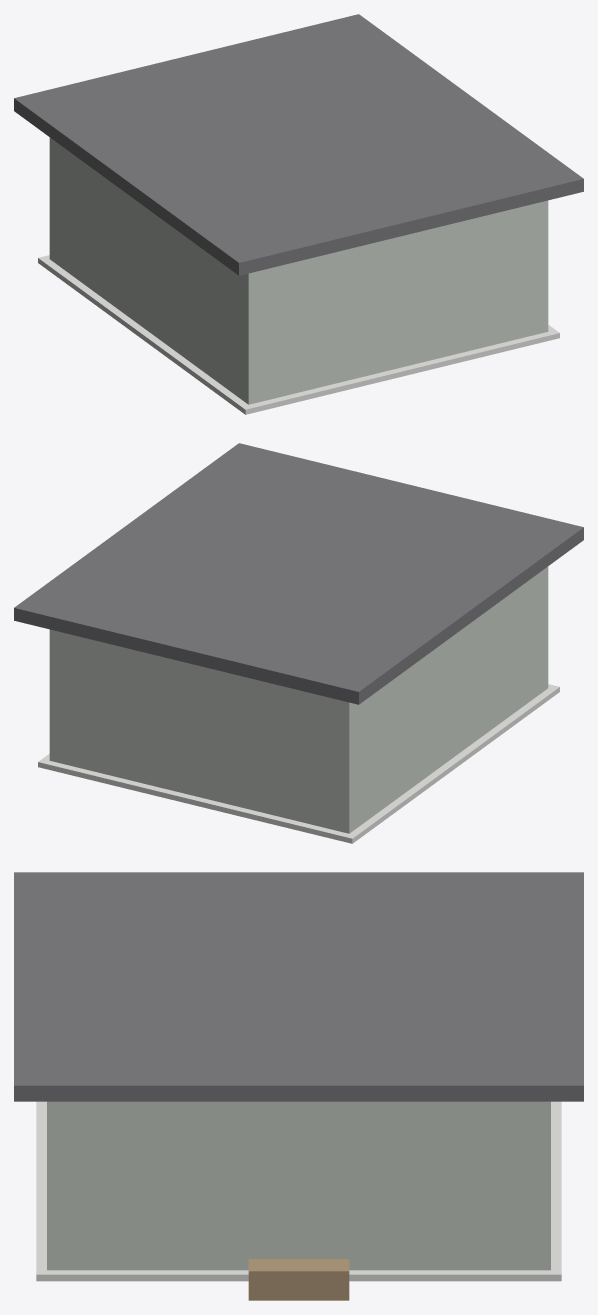
Rendered from fixture_side_entry_box_lod0.glb.
The picture shows the model from 3 angles, top to bottom: view 1: azimuth 30°, elevation 25°; view 2: azimuth 150°, elevation 25°; view 3: azimuth 270°, elevation 25°; orthographic projection. The views are drawn at different scales.
Parts seen in each view (by area): view 1: fixture_roof, fixture_walls, fixture_slab; view 2: fixture_roof, fixture_walls, fixture_slab; view 3: fixture_roof, fixture_walls, fixture_slab, fixture_bench.
Boxes of the visible parts, <box> form: fixture_roof: <box>14,14,583,275</box>; fixture_walls: <box>49,137,548,404</box>; fixture_slab: <box>38,255,559,414</box>; fixture_roof: <box>14,443,583,704</box>; fixture_walls: <box>49,566,548,833</box>; fixture_slab: <box>38,684,559,843</box>; fixture_roof: <box>14,872,583,1101</box>; fixture_walls: <box>47,1101,550,1270</box>; fixture_slab: <box>36,1101,561,1281</box>; fixture_bench: <box>248,1259,349,1300</box>.
Size of the model in its own units: 7.56 by 3.15 by 7.93.
